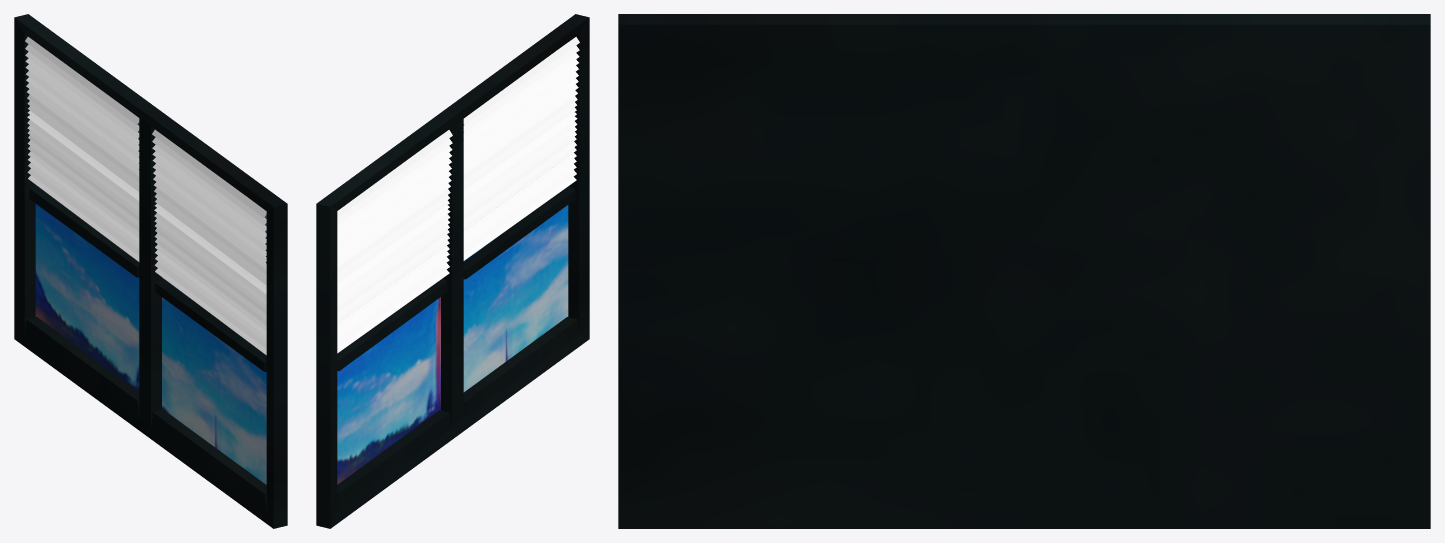
File: window.glb
3 renders of one model, left to right at view 1: azimuth 30°, elevation 25°; view 2: azimuth 150°, elevation 25°; view 3: azimuth 270°, elevation 25°, orthographic. The views are drawn at different scales.
Visible parts, largest first — view 1: Window SIll, blinds 1, blinds 2; view 2: Window SIll, blinds 1, blinds 2; view 3: Window SIll.
Boxes of the visible parts, bbox=[...] form: Window SIll: bbox=[14, 14, 287, 528]; blinds 1: bbox=[152, 129, 266, 355]; blinds 2: bbox=[25, 37, 139, 261]; Window SIll: bbox=[316, 14, 589, 528]; blinds 1: bbox=[463, 37, 579, 260]; blinds 2: bbox=[337, 130, 452, 353]; Window SIll: bbox=[618, 14, 1430, 528].
Bounding box in the file's own units: 0.4942 × 10.82 × 15.79.
1 material, 1 textured.
